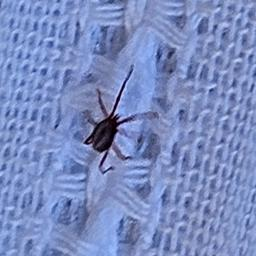Rhipicephalus sanguineus: (84, 64, 159, 175)
